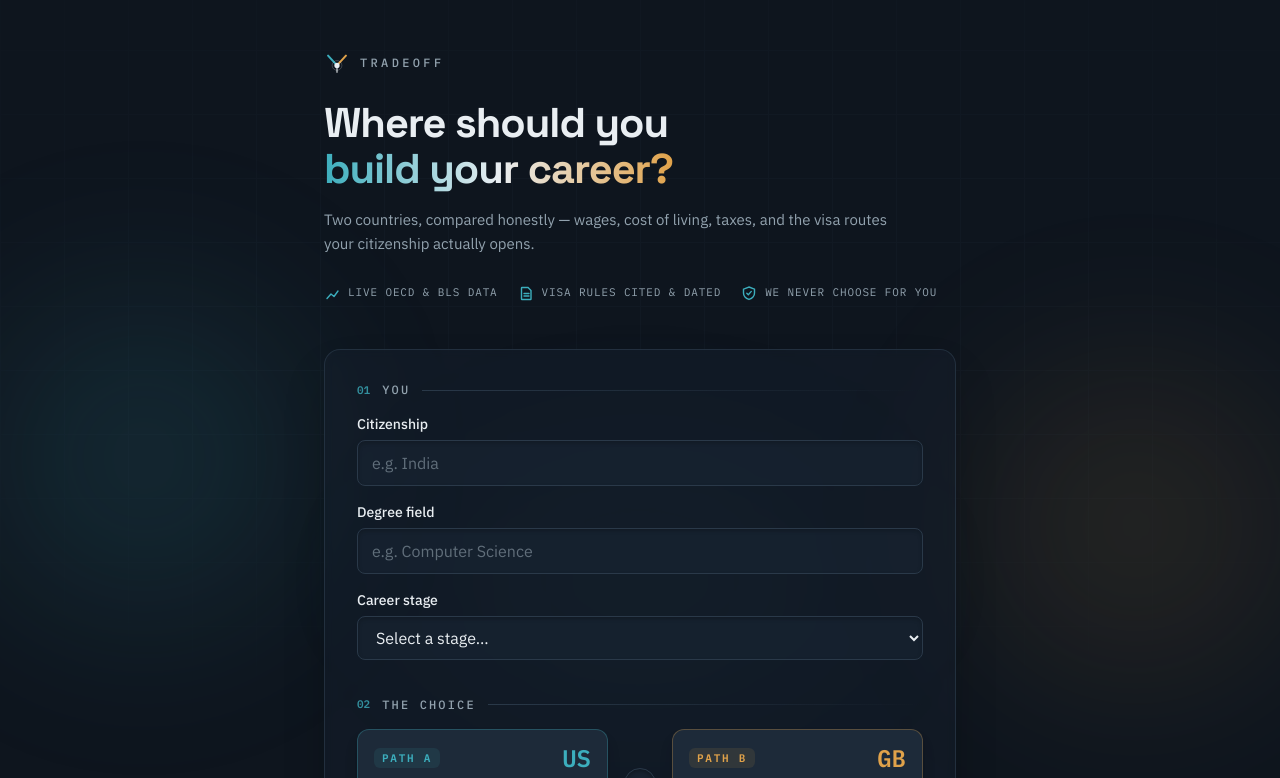
Scenario: IntakePage › surfaces an API error and does not navigate
This screenshot has width=1280, height=778.
Type "India" into the field labelled "Citizenship" at [640, 463], box [357,440,923,486]
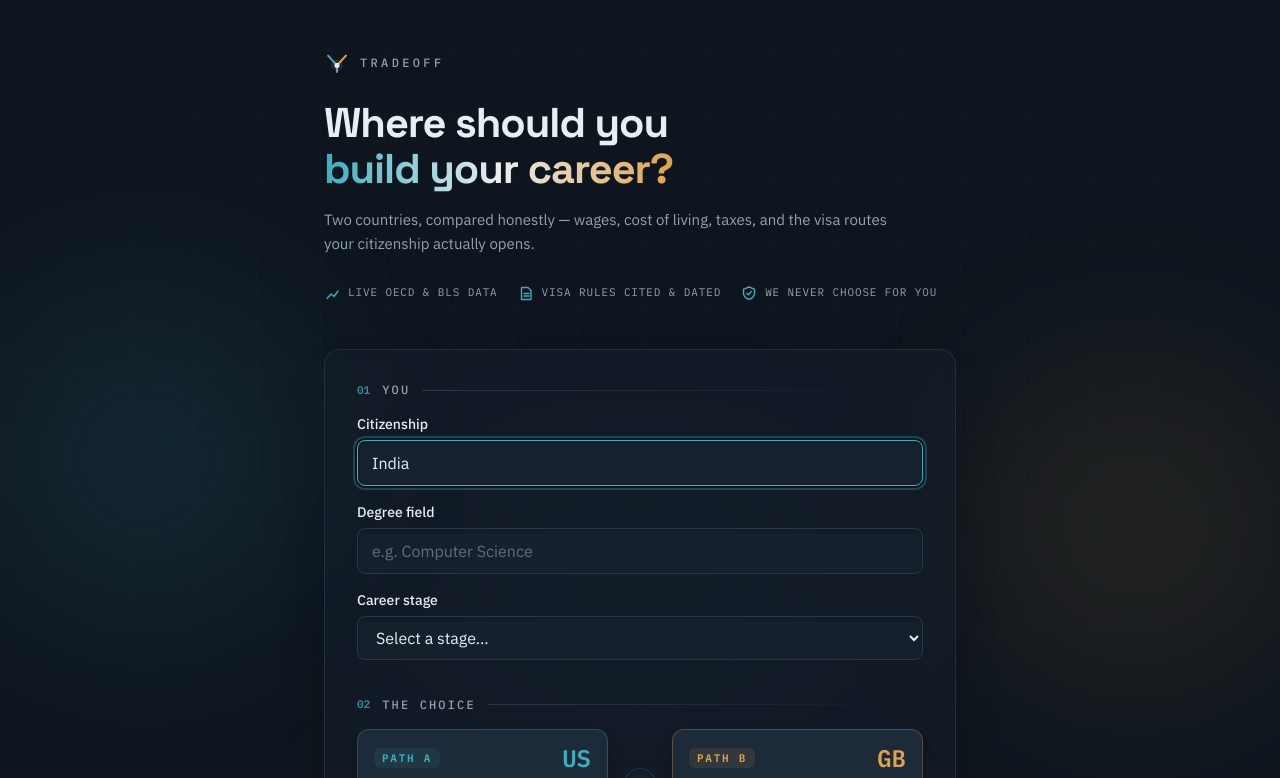
Type "Computer Science" into the field labelled "Degree field" at [640, 551], box [357,528,923,574]
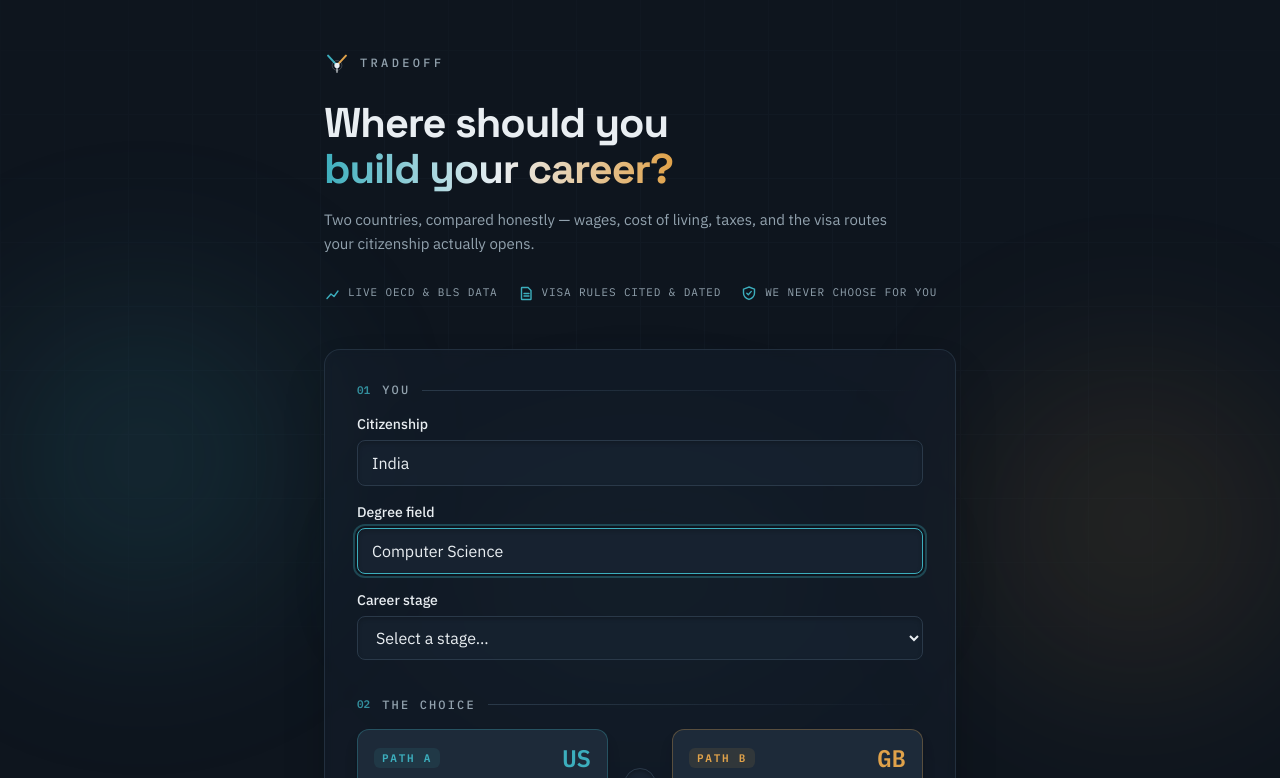
Select "New grad" in the dropdown labelled "Career stage" at [640, 638], box [357,616,923,660]
(page scrolled)
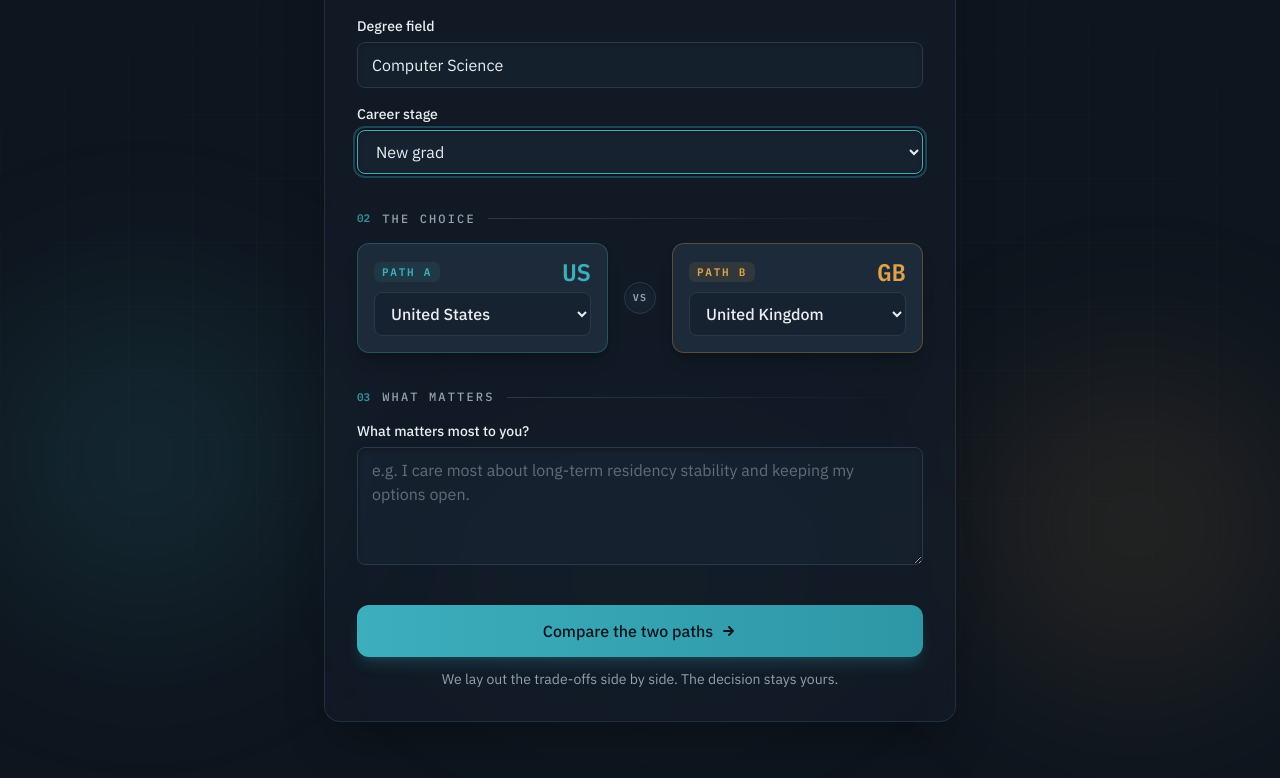
Type "stability" into the text box labelled "What matters most to you?" at [640, 506], box [357,447,923,565]
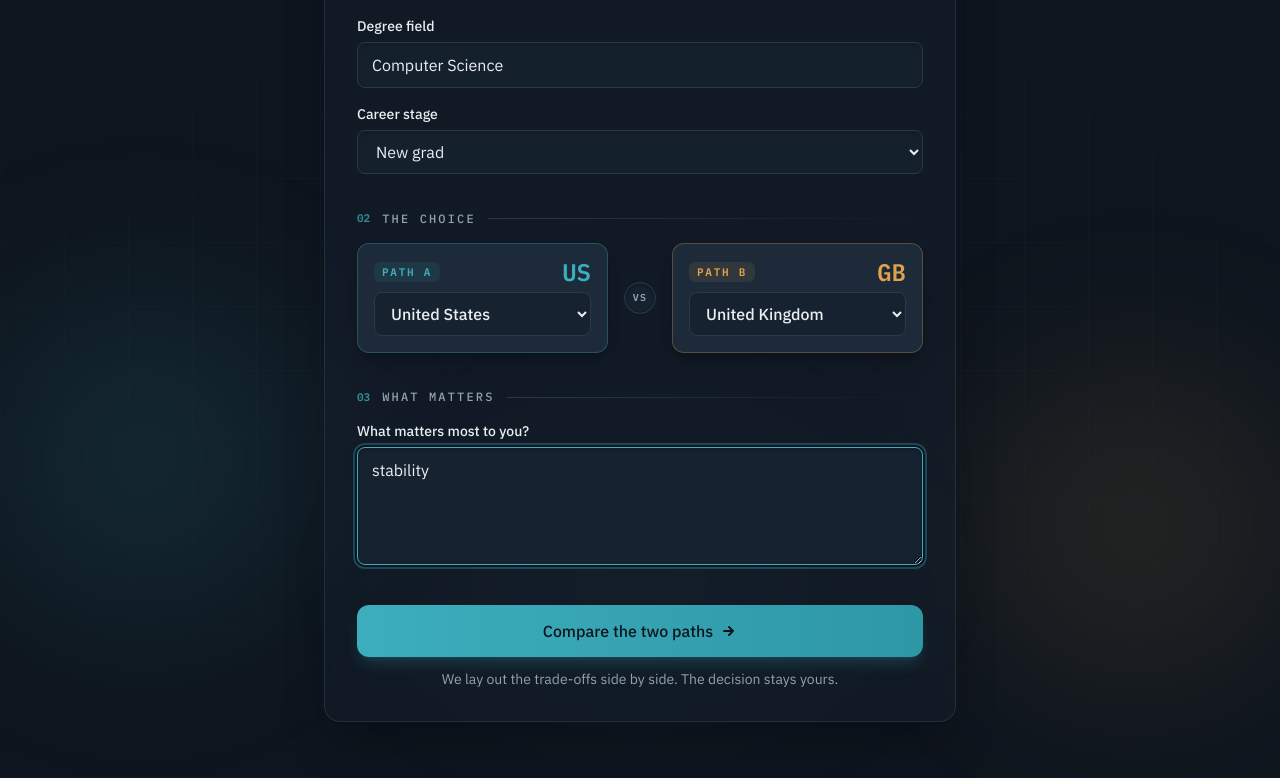
Click the button "Compare the two paths" at [640, 631], box [357,605,923,657]
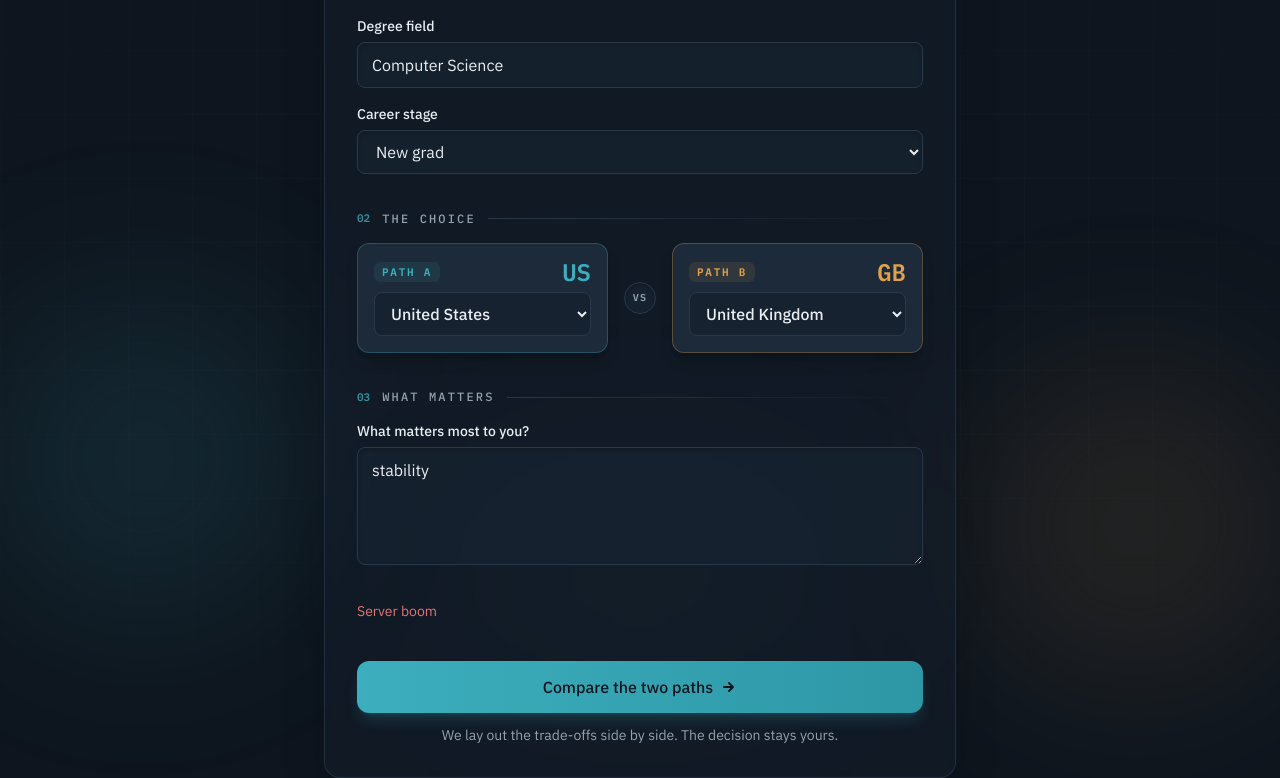
Expected: the message reads "Server boom", [357,602,437,620]
